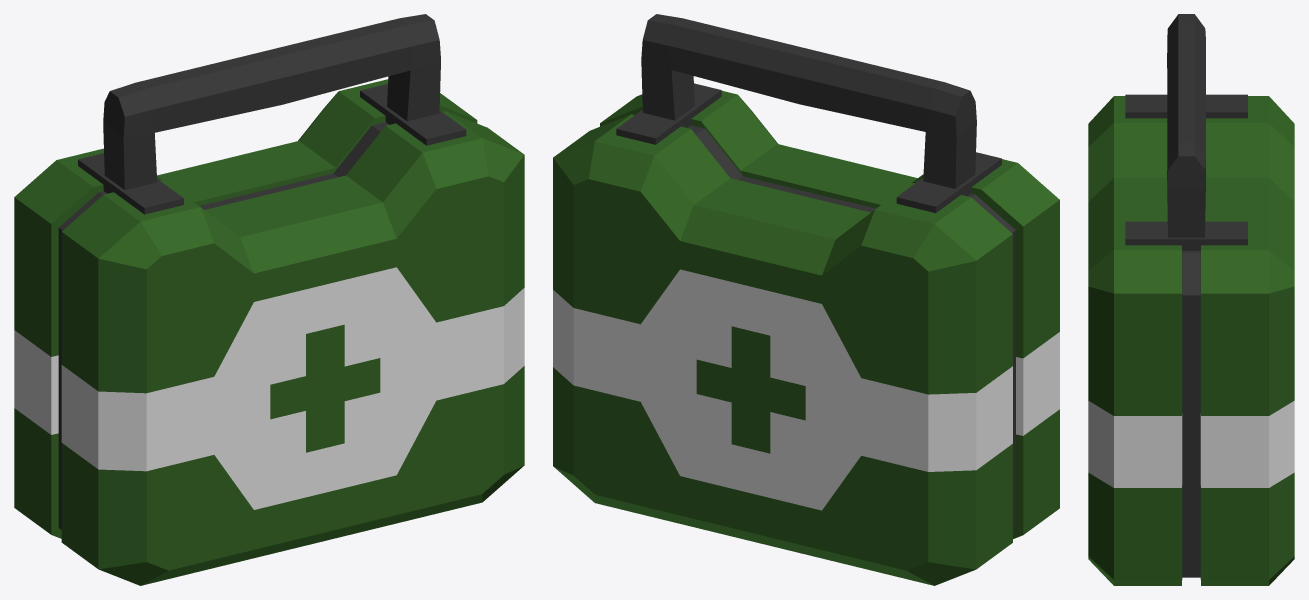
Rendered from Pickup Health.glb.
3 renders of one model, left to right at view 1: azimuth 30°, elevation 25°; view 2: azimuth 150°, elevation 25°; view 3: azimuth 270°, elevation 25°, orthographic. The views are drawn at different scales.
Parts seen in each view (by area): view 1: Pickup_Health; view 2: Pickup_Health; view 3: Pickup_Health.
Part boxes in pixels (x1,y1,x2,y2): Pickup_Health: (14, 14, 524, 585); Pickup_Health: (553, 14, 1059, 585); Pickup_Health: (1088, 14, 1294, 585).
Size of the model in its own units: 0.9694 by 1 by 0.4402.
1 material, 1 textured.
